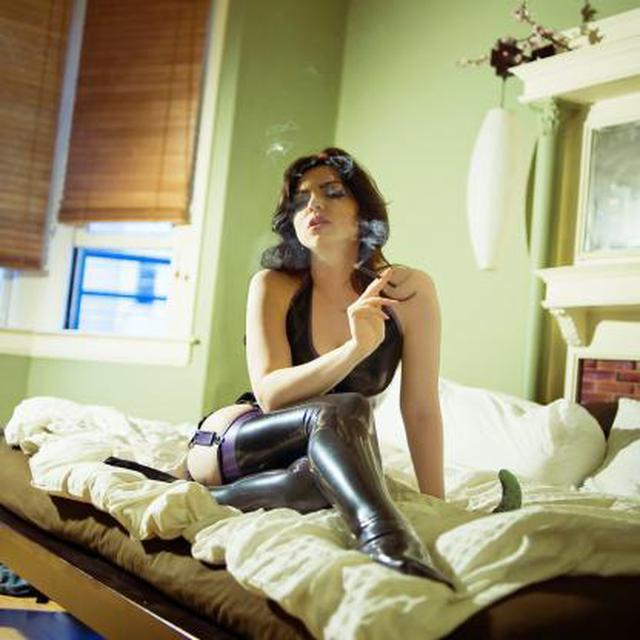smoking: (350, 258, 408, 297)
